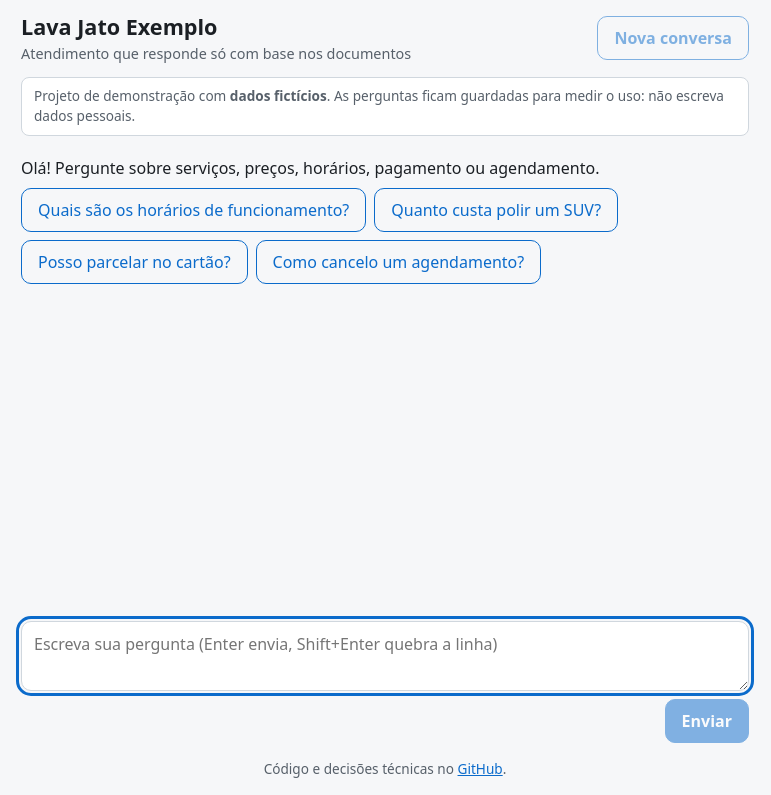
Test: conversa › o que o modelo escrever é exibido como texto, nunca como HTML
This screenshot has width=771, height=795.
Type "oi?" into the text box labelled "sua pergunta" at (385, 656), box [21,621,749,691]
Then press Enter
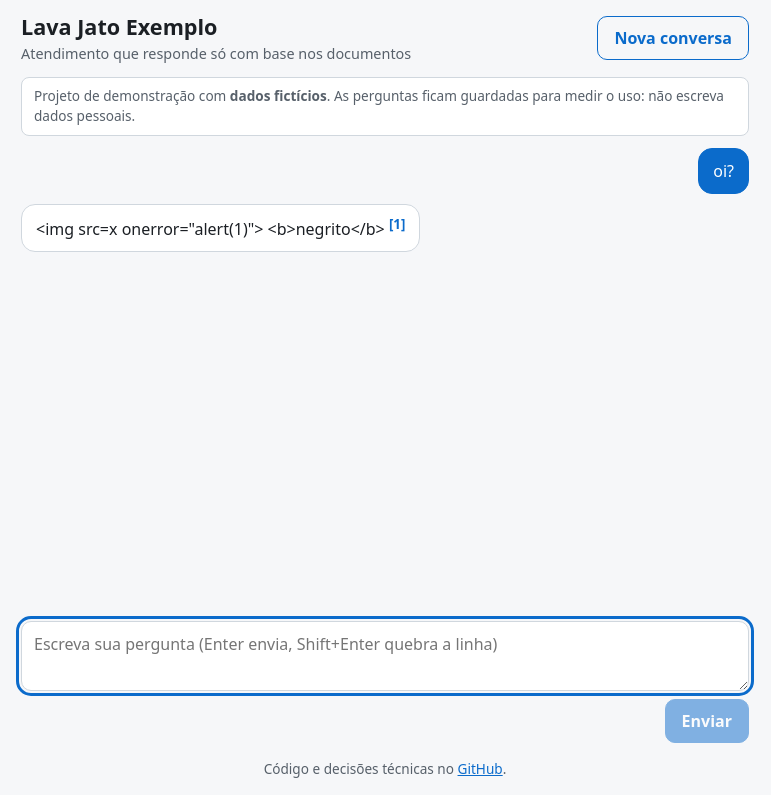
Expected: the text "<img src=x onerror=\"alert(1)\"> <b>negrito</b> [1]" is shown, [36,215,405,241]
